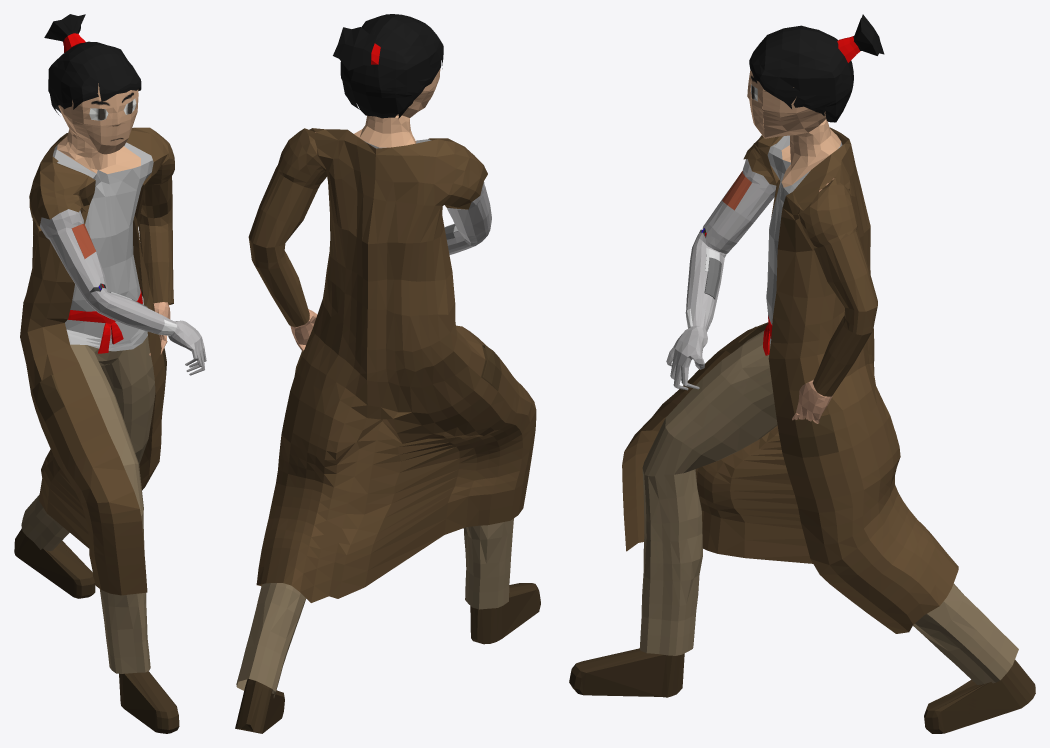
The model's file is Special_Attack_000034.obj.
The picture shows the model from 3 angles, left to right: view 1: azimuth 30°, elevation 25°; view 2: azimuth 150°, elevation 25°; view 3: azimuth 270°, elevation 25°; orthographic projection. The views are drawn at different scales.
Visible parts, largest first — view 1: Hair_Cube.004; view 2: Hair_Cube.004; view 3: Hair_Cube.004.
Part boxes in pixels (bbox=[...]): Hair_Cube.004: bbox=[14, 14, 206, 733]; Hair_Cube.004: bbox=[235, 14, 540, 733]; Hair_Cube.004: bbox=[569, 14, 1035, 733].
Size of the model in its own units: 1.11 by 3.69 by 2.27.
